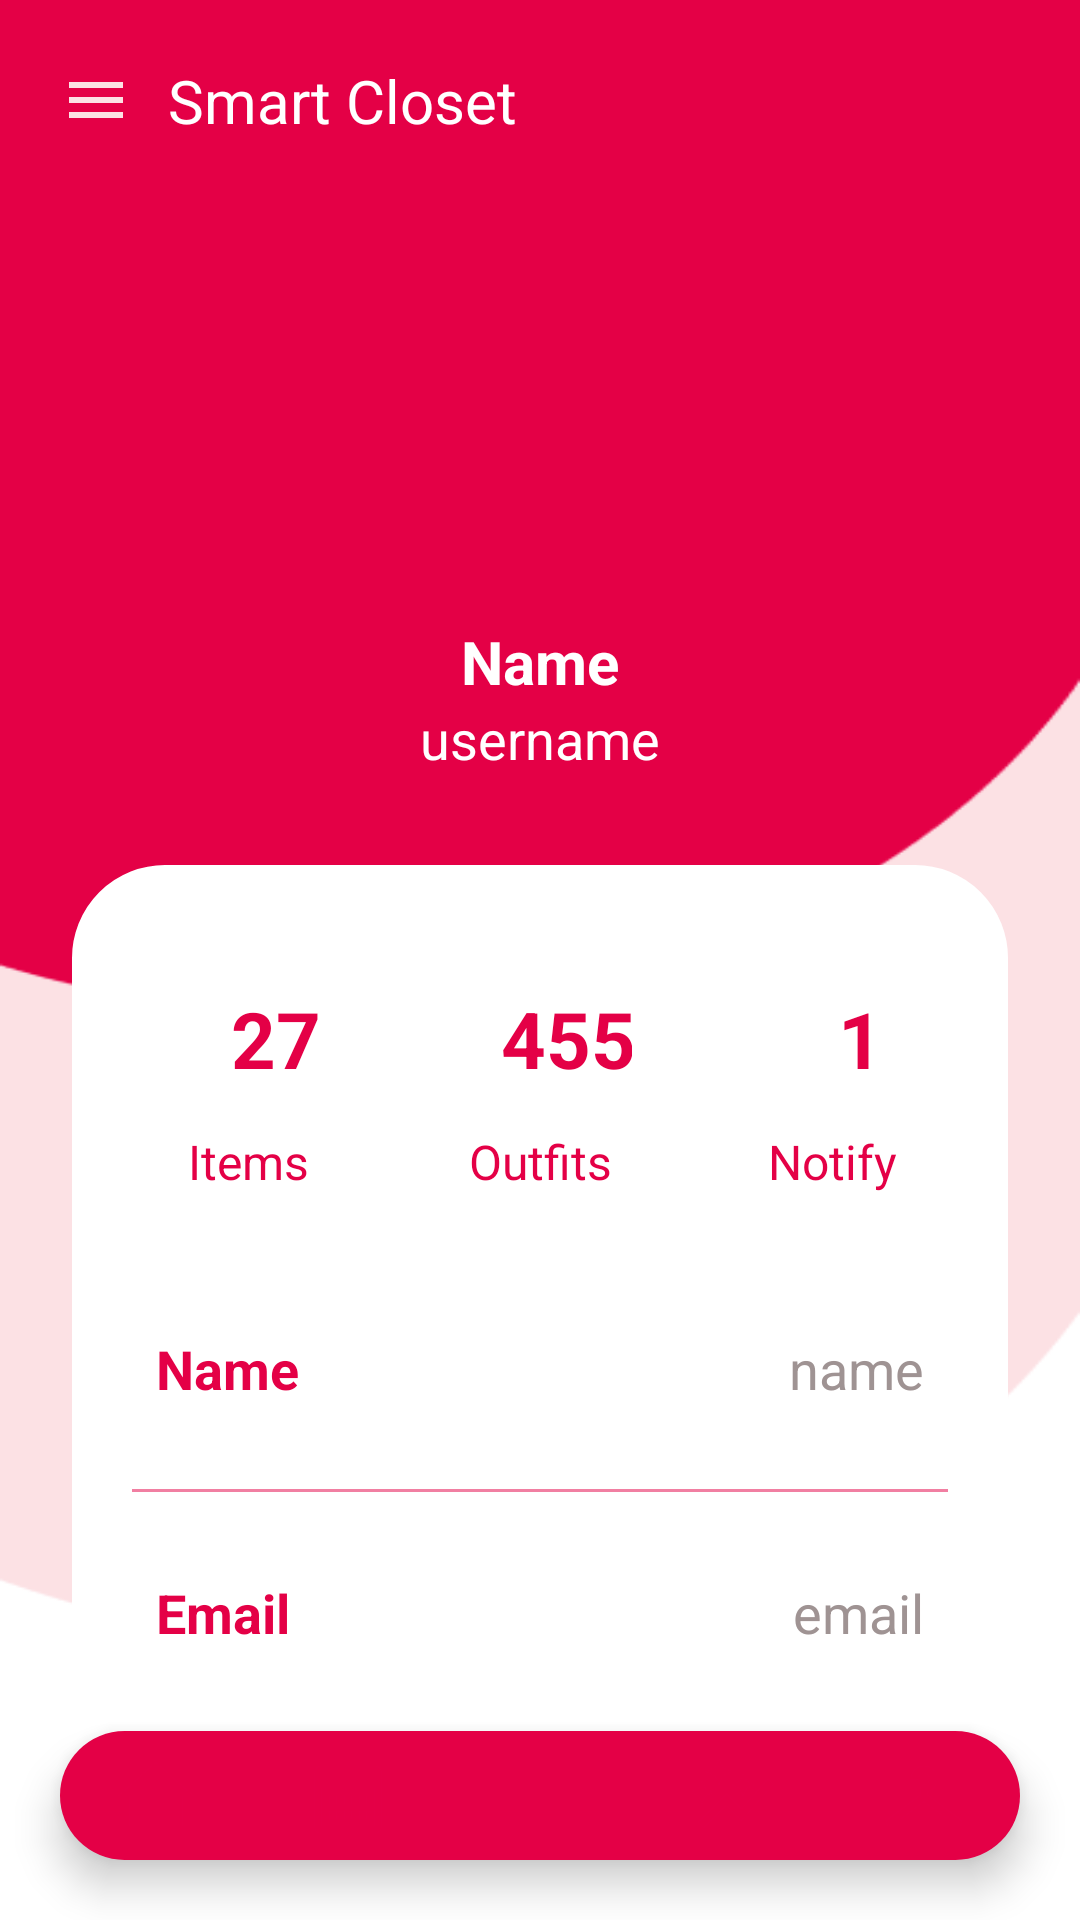

Named icons in this screenshot (1080*1920) and their centers, (x=x, y=y):
menu: (x=96, y=100)
